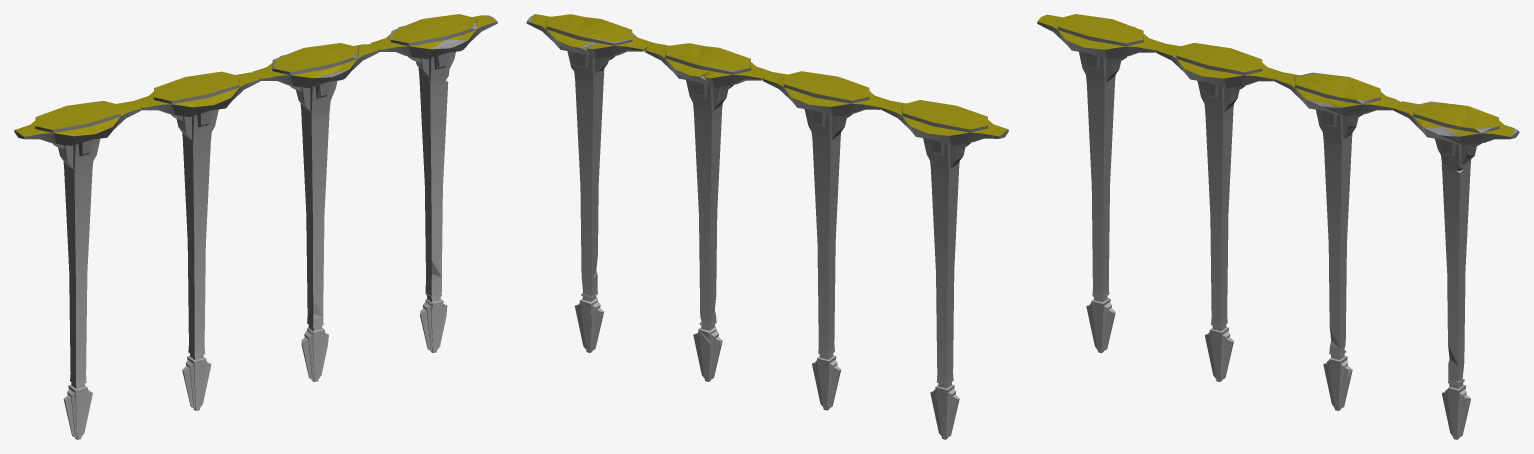
File: Prop_GardenBridge_Set.fbx
3 renders of one model, left to right at view 1: azimuth 30°, elevation 25°; view 2: azimuth 150°, elevation 25°; view 3: azimuth 330°, elevation 25°, orthographic.
Parts seen in each view (by area): view 1: GardenBridgeSetWonkMesh, GardenBridgeSetCleanMesh, GardenBridgeSetCrackMesh, GardenBridgeSetCrackBMesh, GardenBridgeSetCrackAMesh, GardenBridgeSetCrackCMesh; view 2: GardenBridgeSetWonkMesh, GardenBridgeSetCleanMesh, GardenBridgeSetCrackMesh, GardenBridgeSetCrackBMesh, GardenBridgeSetCrackAMesh, GardenBridgeSetCrackCMesh; view 3: GardenBridgeSetWonkMesh, GardenBridgeSetCleanMesh, GardenBridgeSetCrackMesh, GardenBridgeSetCrackBMesh, GardenBridgeSetCrackAMesh, GardenBridgeSetCrackCMesh.
Boxes of the visible parts, box(x1,y1,x2,y2) form: GardenBridgeSetWonkMesh: box(14, 100, 141, 439); GardenBridgeSetCleanMesh: box(133, 71, 260, 410); GardenBridgeSetCrackMesh: box(252, 43, 378, 381); GardenBridgeSetCrackBMesh: box(418, 70, 448, 296); GardenBridgeSetCrackAMesh: box(370, 14, 497, 82); GardenBridgeSetCrackCMesh: box(420, 293, 447, 352); GardenBridgeSetWonkMesh: box(881, 100, 1008, 439); GardenBridgeSetCleanMesh: box(763, 71, 889, 410); GardenBridgeSetCrackMesh: box(645, 43, 771, 381); GardenBridgeSetCrackBMesh: box(575, 73, 604, 296); GardenBridgeSetCrackAMesh: box(526, 14, 652, 77); GardenBridgeSetCrackCMesh: box(575, 292, 603, 352); GardenBridgeSetWonkMesh: box(1037, 14, 1164, 353); GardenBridgeSetCleanMesh: box(1156, 43, 1282, 381); GardenBridgeSetCrackMesh: box(1274, 72, 1399, 410); GardenBridgeSetCrackBMesh: box(1441, 161, 1470, 381); GardenBridgeSetCrackAMesh: box(1392, 101, 1519, 170); GardenBridgeSetCrackCMesh: box(1441, 379, 1470, 439).
Bounding box in the file's own units: 12.02 × 7.87 × 1.51.
